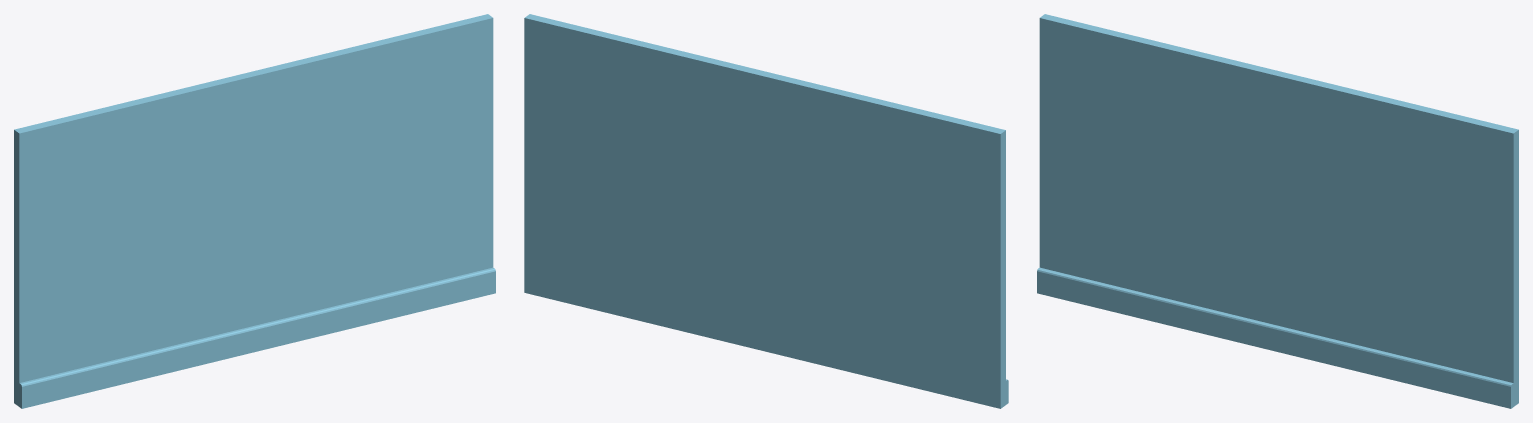
The model's file is Wall.fbx.
3 views of the same model, side by side, from view 1: azimuth 30°, elevation 25°; view 2: azimuth 150°, elevation 25°; view 3: azimuth 330°, elevation 25° (orthographic).
Visible parts, largest first — view 1: Plane.005; view 2: Plane.005; view 3: Plane.005.
Part boxes in pixels (x1,y1,x2,y2): Plane.005: (14,14,495,408); Plane.005: (524,14,1008,408); Plane.005: (1037,14,1518,408).
Bounding box in the file's own units: 786 × 434 × 22.66.
